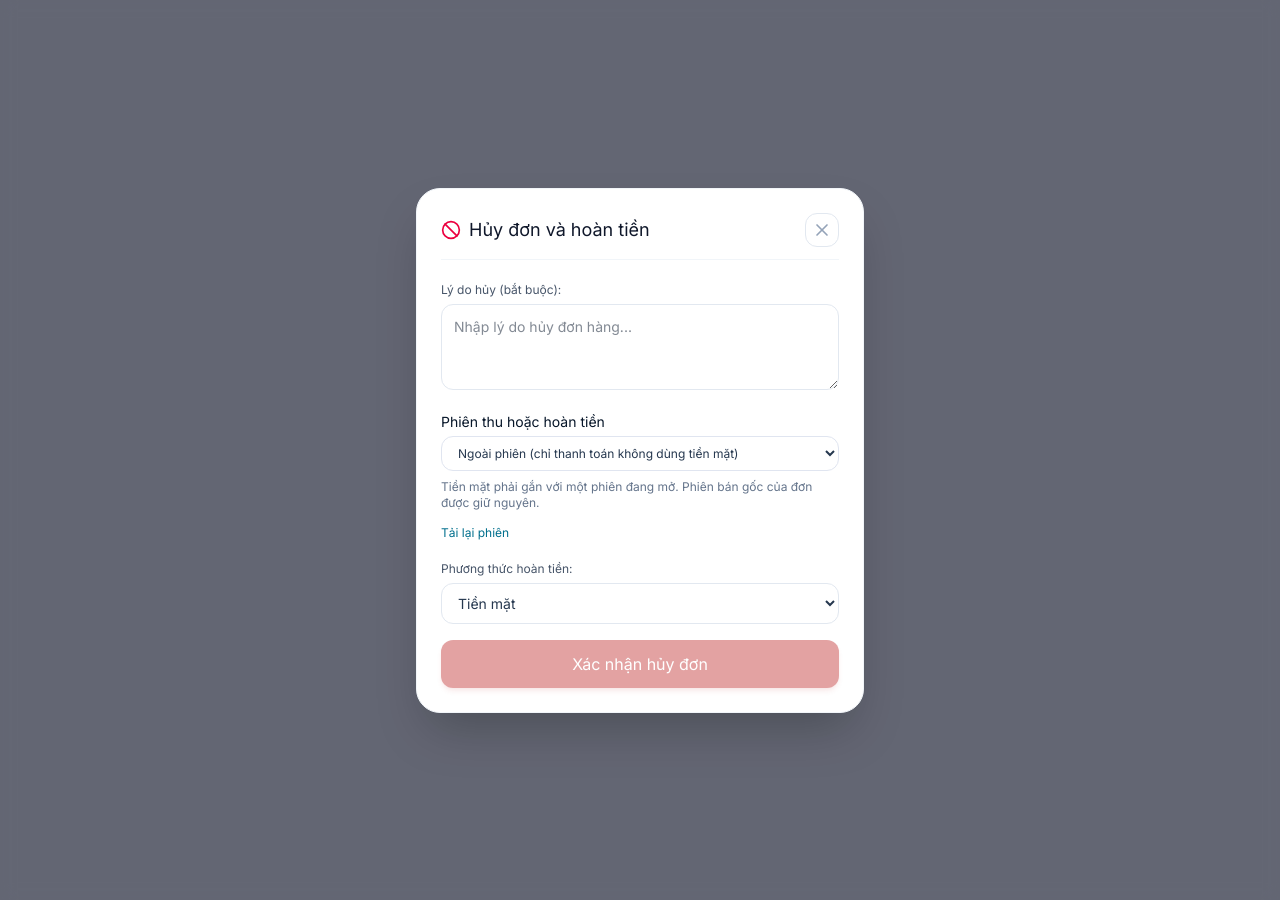
Scenario: does not cancel if the request cannot be persisted
Type "Unused" into the text box labelled "lý do hủy".
click(640, 346); type("Unused")  # box x1=441 y1=304 x2=839 y2=390
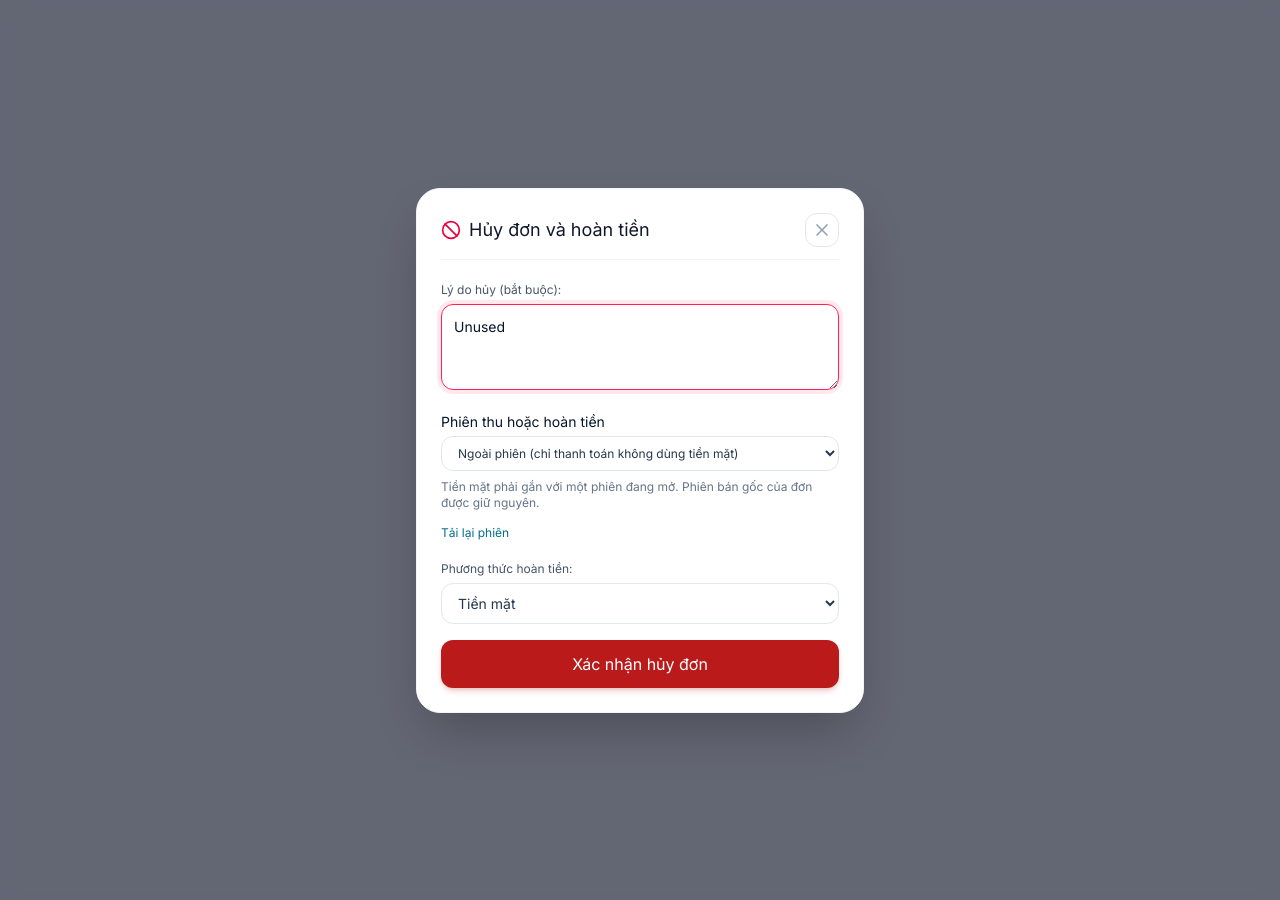
Select "Test cashier · 2026-10-09" in the dropdown labelled "Phiên thu hoặc hoàn tiền" at [640, 453], box x1=441 y1=436 x2=839 y2=470
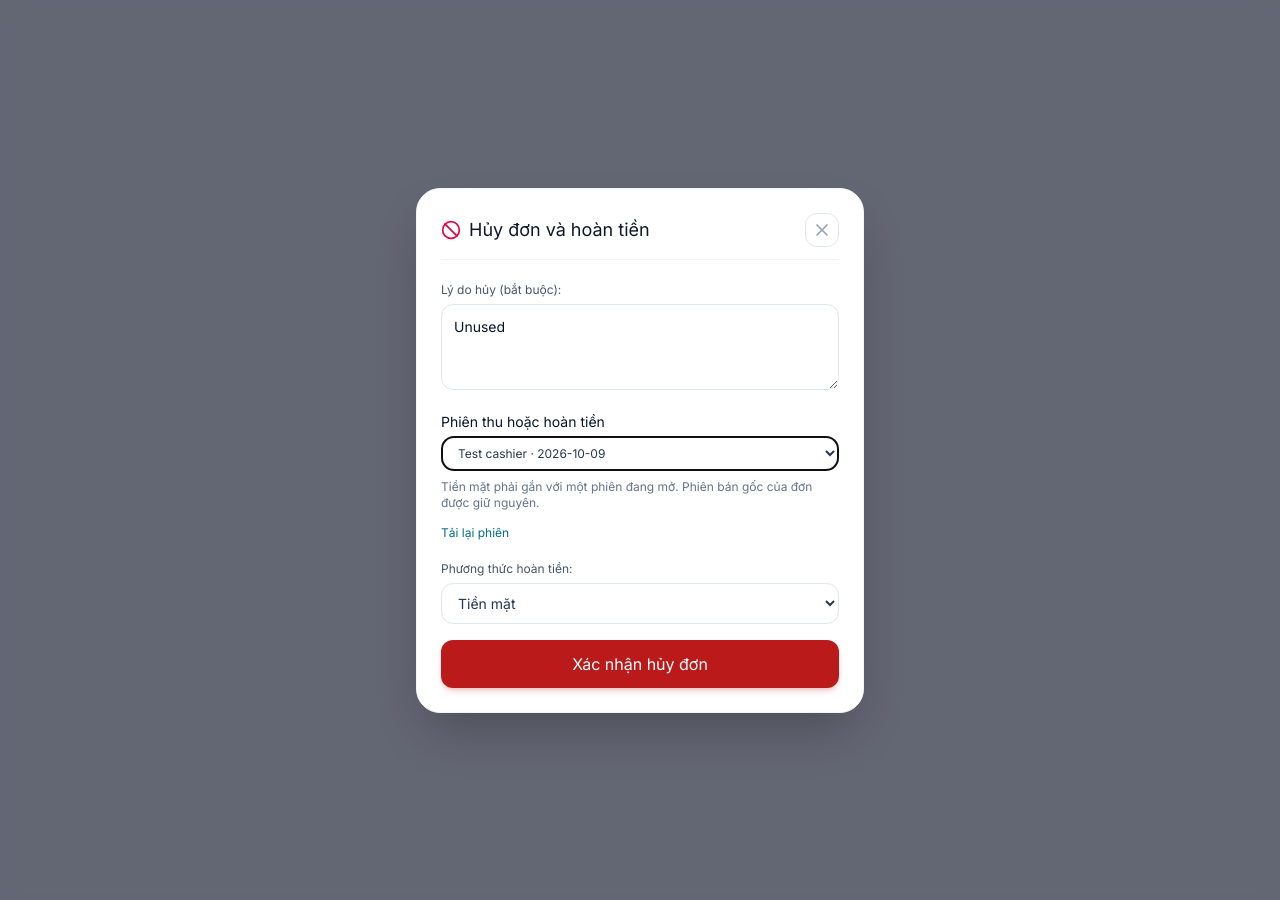
Click the button "Xác nhận hủy đơn".
click(640, 664)  # box x1=441 y1=640 x2=839 y2=688
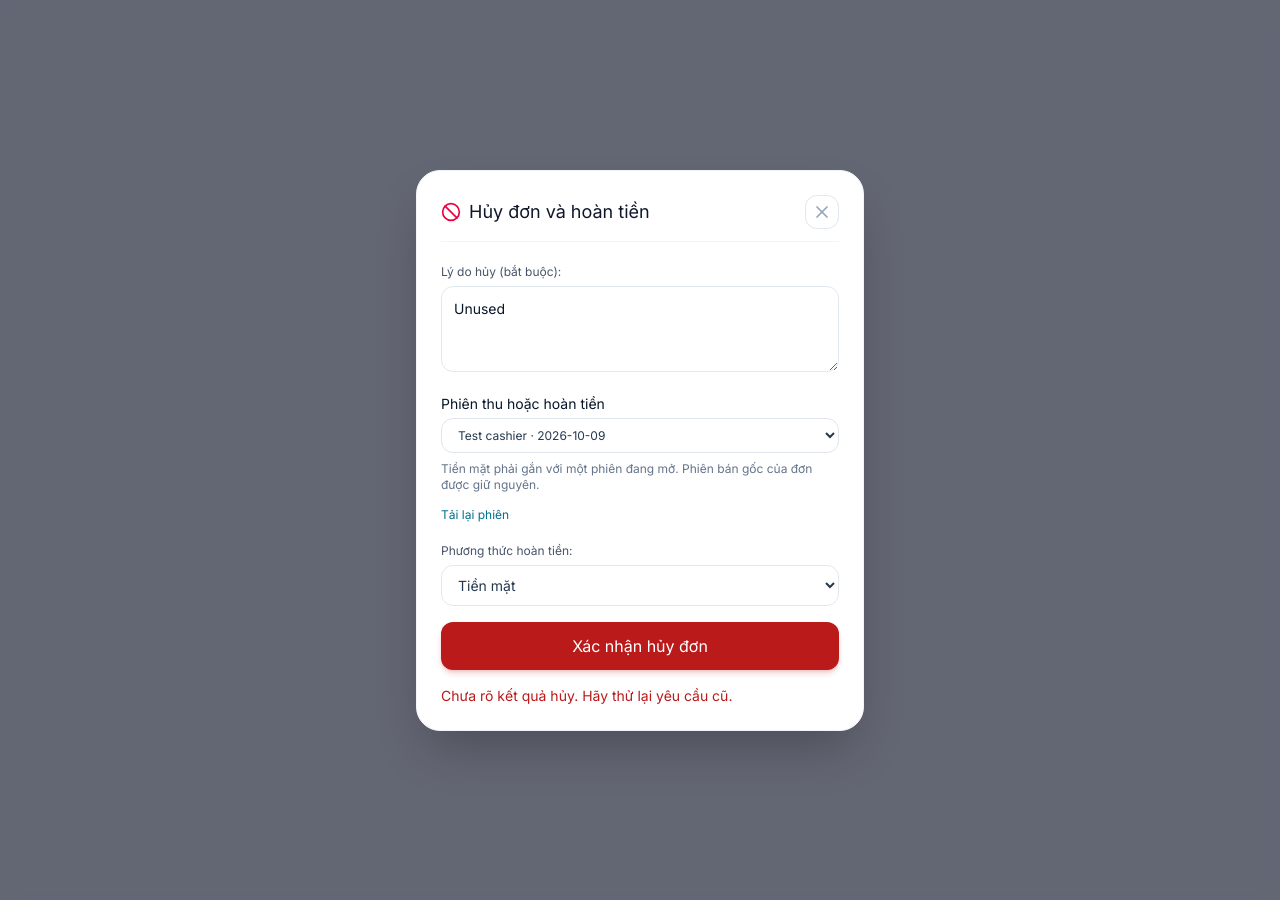
Result: the message "Chưa rõ kết quả hủy. Hãy thử lại yêu cầu cũ." is shown at x1=441 y1=686 x2=732 y2=704
